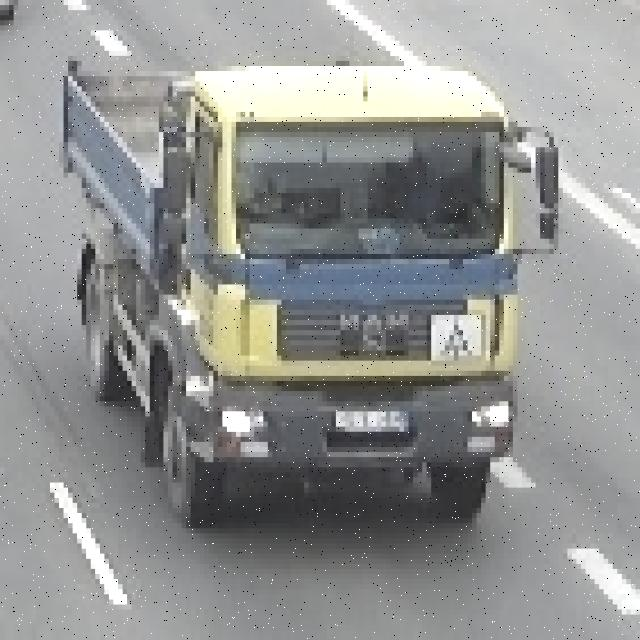truck: (54, 46, 554, 518)
